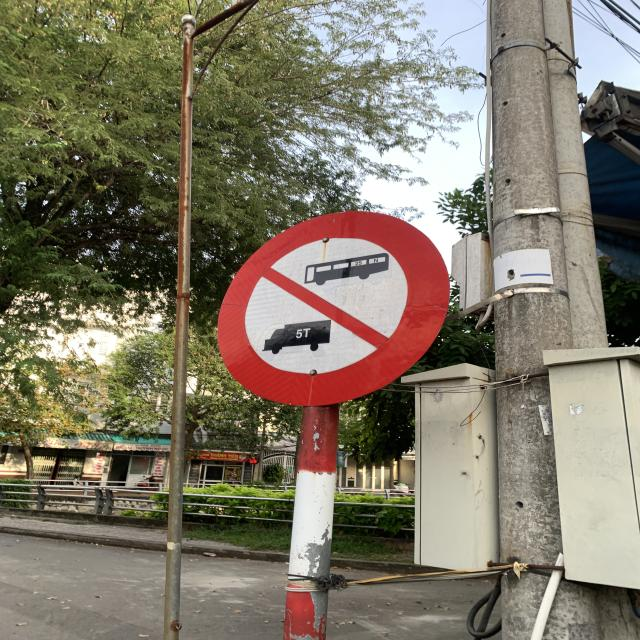Cam_XeTai_XeKhach: (217, 211, 450, 405)
